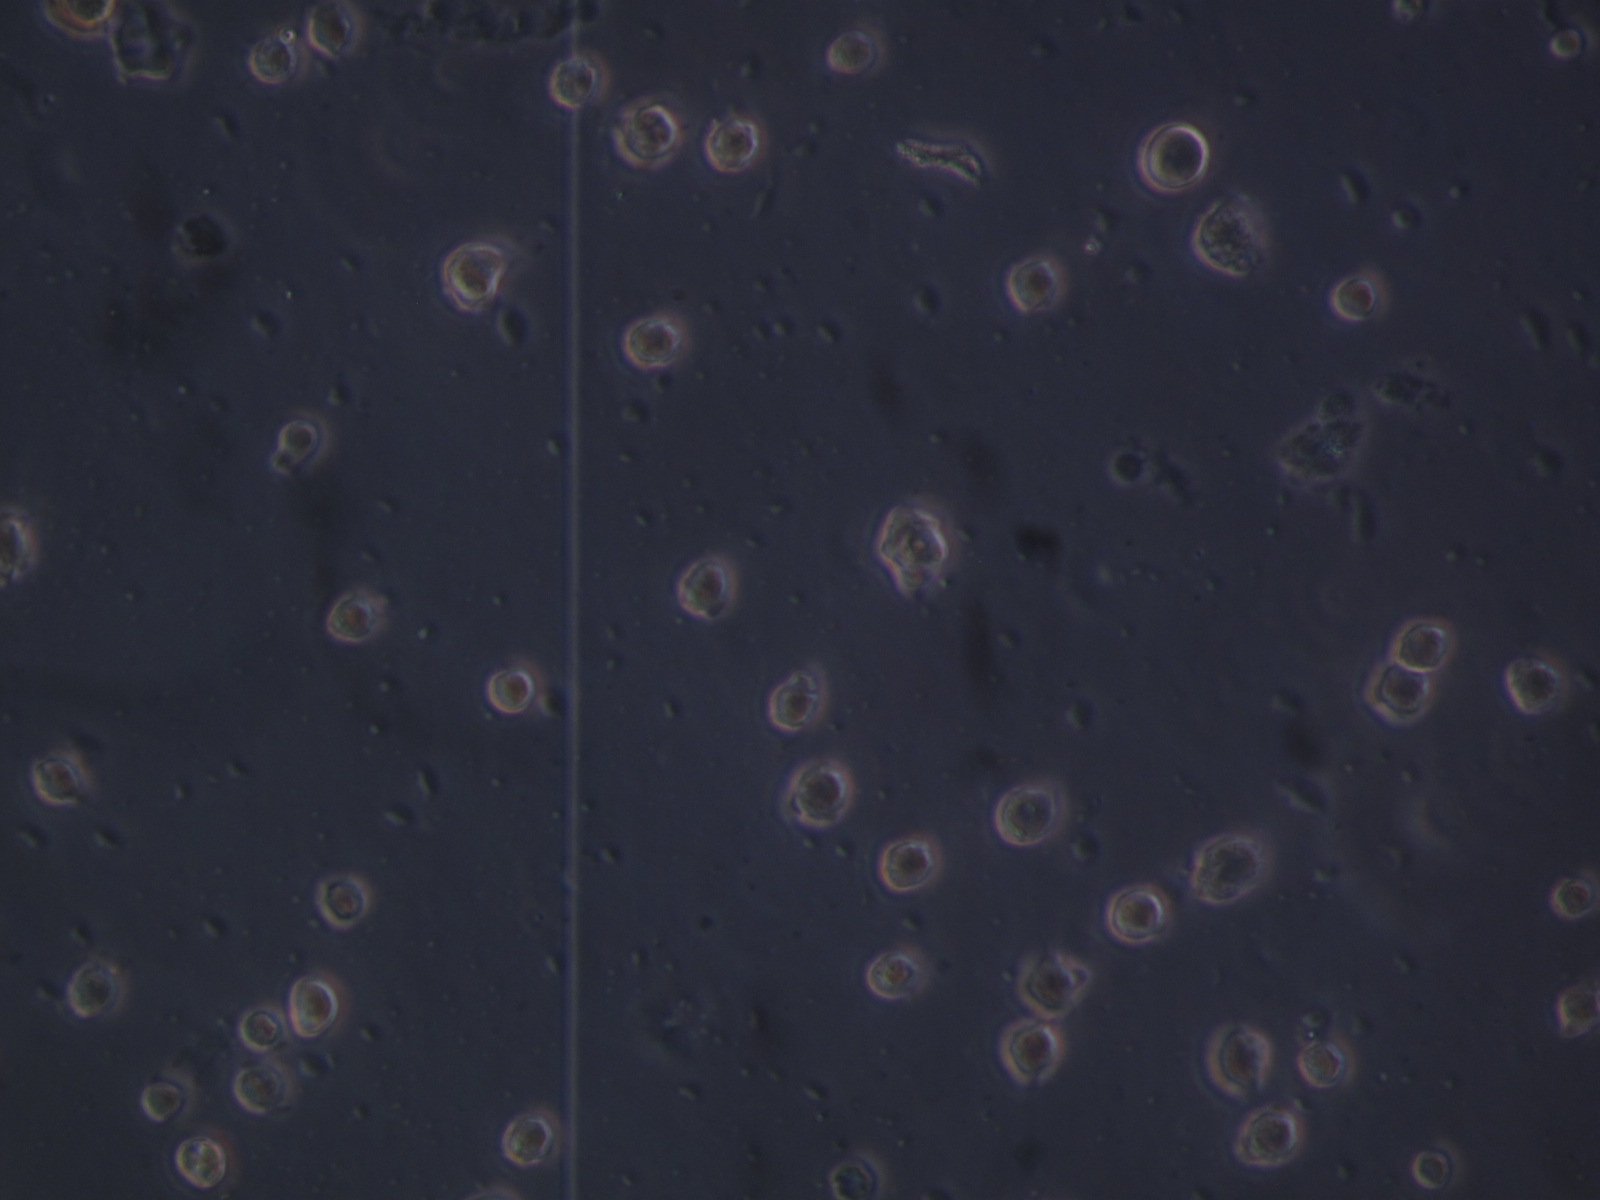hemo: (873, 500, 951, 571), (1140, 118, 1209, 190), (1196, 832, 1262, 904), (1367, 655, 1432, 727), (787, 756, 853, 827), (615, 98, 682, 165), (1017, 948, 1081, 1013), (443, 242, 509, 305), (881, 829, 944, 894), (1002, 1018, 1066, 1082), (1206, 1026, 1267, 1092), (993, 783, 1054, 846), (1107, 881, 1167, 945), (1503, 655, 1563, 717), (866, 943, 930, 1000), (1393, 614, 1450, 678), (678, 556, 734, 616), (39, 1, 126, 40), (706, 118, 763, 175), (766, 676, 824, 732), (548, 53, 602, 113), (316, 872, 373, 929), (1241, 1111, 1298, 1166), (68, 959, 121, 1017), (622, 316, 682, 367), (326, 590, 383, 642), (290, 978, 339, 1037), (171, 1134, 226, 1187), (498, 1116, 552, 1168), (305, 4, 358, 57), (236, 1063, 290, 1114), (1, 513, 40, 584), (1010, 256, 1058, 313), (486, 664, 534, 717), (31, 756, 82, 805), (1301, 1042, 1351, 1093), (1333, 274, 1380, 326), (825, 29, 877, 76), (238, 1005, 287, 1053), (249, 35, 296, 84), (139, 1076, 188, 1122), (826, 1158, 877, 1200), (1553, 872, 1595, 921), (278, 418, 321, 460), (1557, 983, 1596, 1029), (1409, 1150, 1453, 1189)
